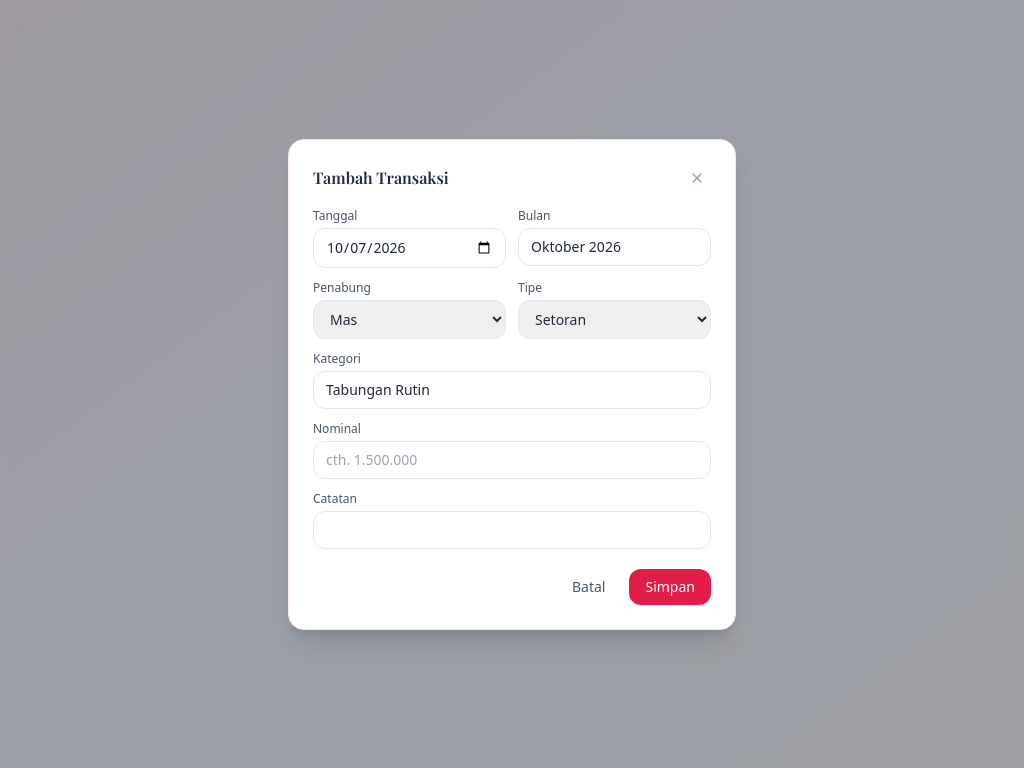
Test: AddTransactionModal input validation › rejects shorthand like "1.5jt" instead of saving Rp 1,5
Type "1.5jt" into the field labelled "Nominal".
click(512, 460); type("1.5jt")  # box [313,440,711,478]
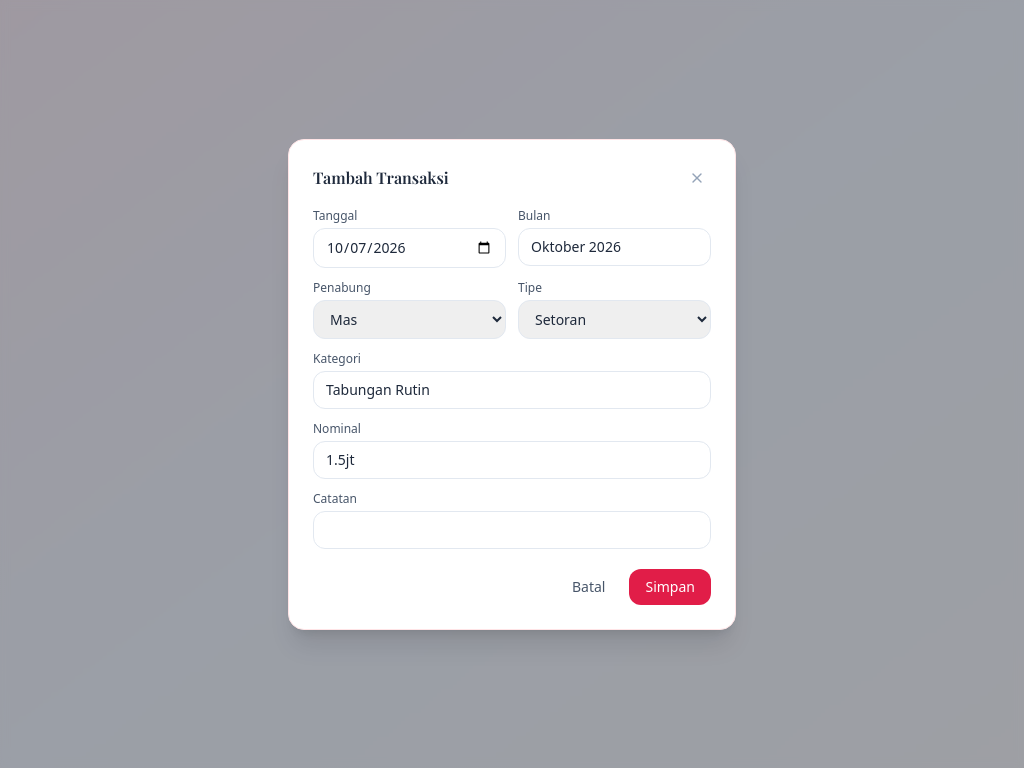
Click the button "Simpan".
click(670, 586)  # box [630,568,711,604]
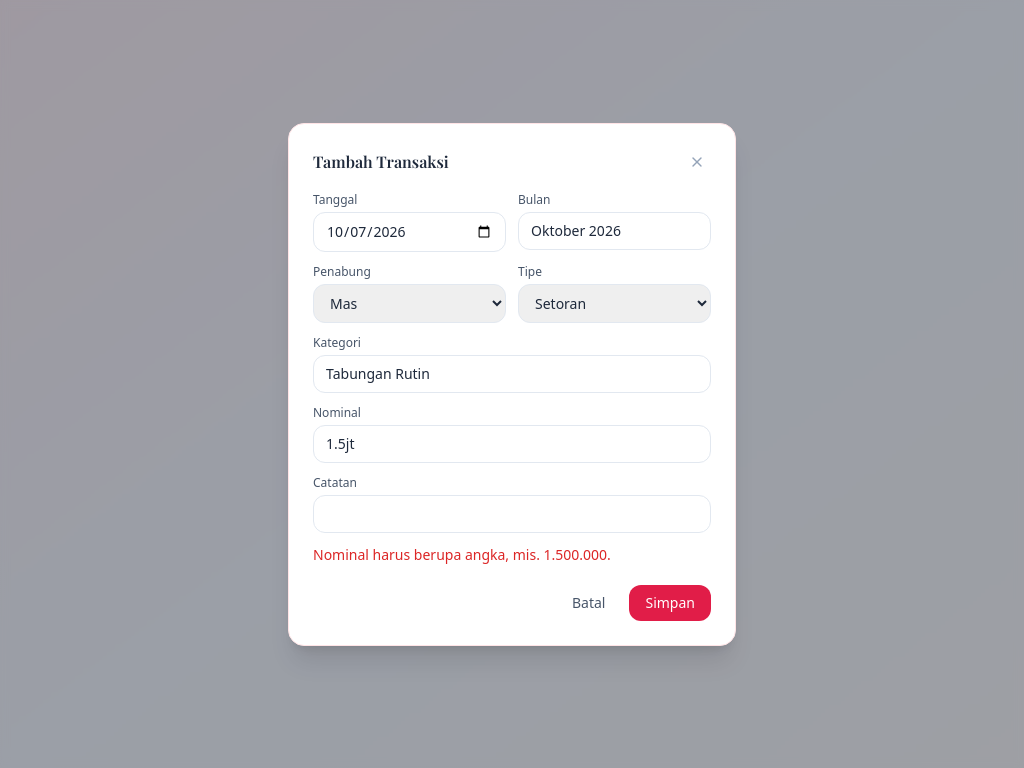
Check: the message shows "angka", box [313,544,611,564]
